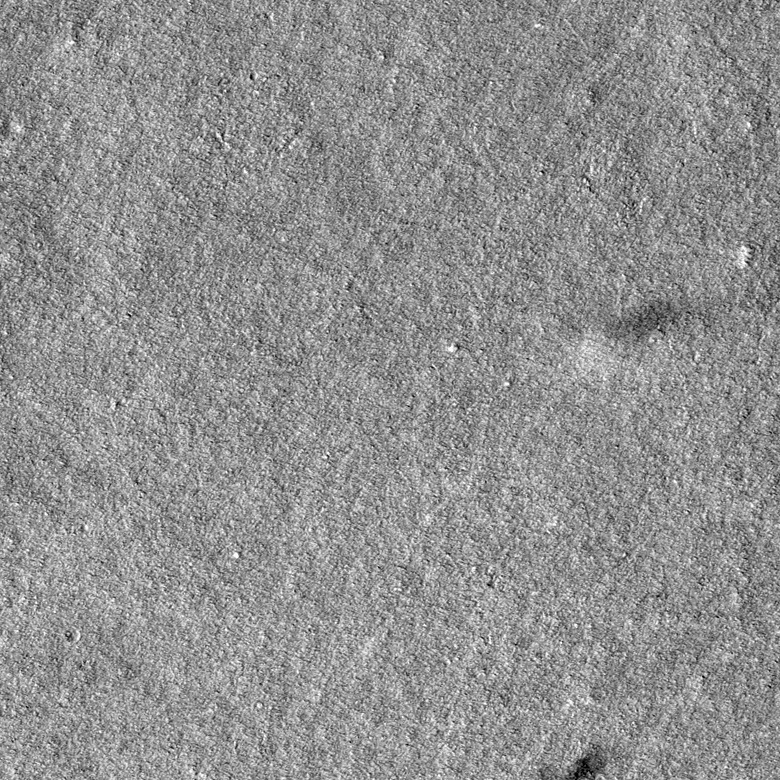dust_devil: (578, 298, 682, 358)
